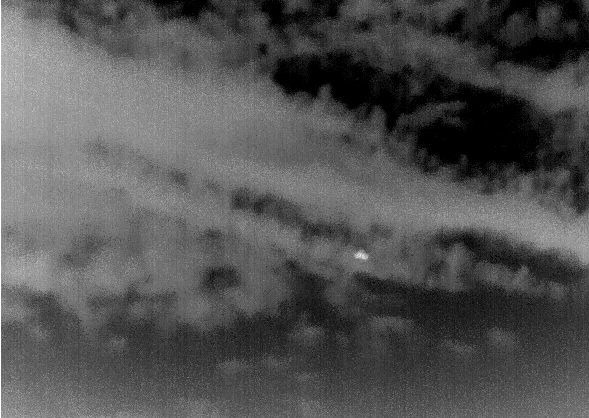dim target: (355, 249, 369, 262)
